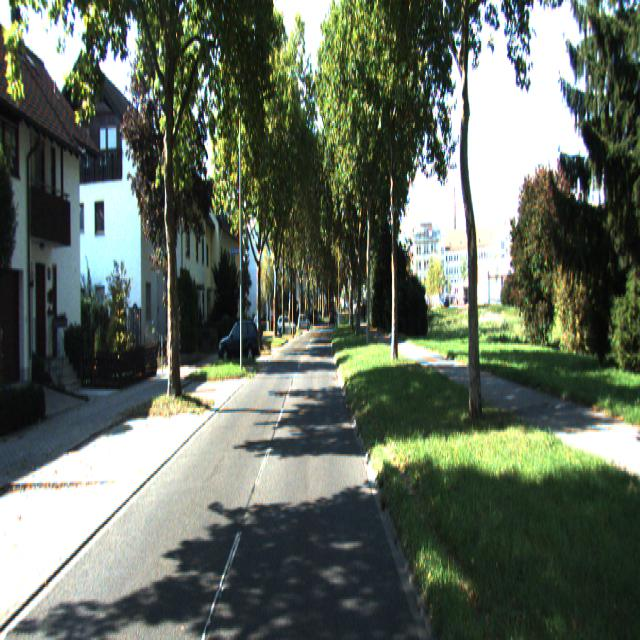Car: (217, 318, 259, 366)
